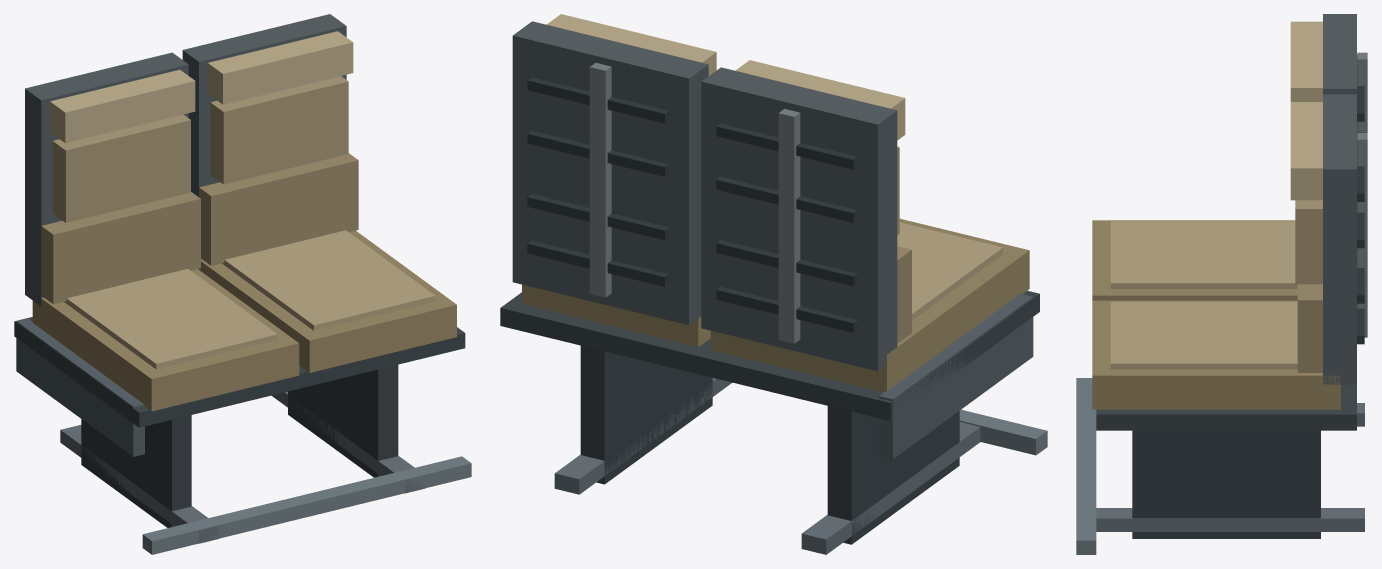
The model's file is CMU3DTanBenchLeft.glb.
3 views of the same model, side by side, from view 1: azimuth 30°, elevation 25°; view 2: azimuth 150°, elevation 25°; view 3: azimuth 270°, elevation 25° (orthographic). The views are drawn at different scales.
Visible parts, largest first — view 1: tan lower back pad (×2), pale seat inset (×2), tan middle back pad (×2), tan seat pad (×2), bench support leg (×2), back shell (×2), pale head pad (×2), joined front foot bar, bench seat rail, outer end bracket, long floor skid (×2); view 2: back shell (×2), bench support leg (×2), tan seat pad (×2), back shell horizontal rib (×8), bench seat rail, rear mounting spine (×2), outer end bracket, long floor skid (×2), pale head pad (×2), pale seat inset, joined front foot bar, tan lower back pad; view 3: pale seat inset (×2), bench support leg, tan seat pad (×2), back shell (×2), bench seat rail, pale head pad (×2), long floor skid, joined front foot bar, tan middle back pad, tan lower back pad, rear mounting spine (×2).
Part boxes in pixels (x1=…): tan lower back pad (×2): x1=41, y1=153, x2=358, y2=304; pale seat inset (×2): x1=64, y1=230, x2=435, y2=369; tan middle back pad (×2): x1=52, y1=76, x2=348, y2=222; tan seat pad (×2): x1=32, y1=230, x2=456, y2=411; bench support leg (×2): x1=81, y1=364, x2=398, y2=527; back shell (×2): x1=25, y1=14, x2=346, y2=306; pale head pad (×2): x1=50, y1=31, x2=353, y2=143; joined front foot bar: x1=142, y1=456, x2=471, y2=554; bench seat rail: x1=14, y1=317, x2=465, y2=427; outer end bracket: x1=16, y1=318, x2=144, y2=456; long floor skid (×2): x1=60, y1=391, x2=425, y2=543; back shell (×2): x1=512, y1=21, x2=897, y2=371; bench support leg (×2): x1=580, y1=345, x2=959, y2=544; tan seat pad (×2): x1=522, y1=218, x2=1029, y2=392; back shell horizontal rib (×8): x1=527, y1=77, x2=857, y2=332; bench seat rail: x1=500, y1=290, x2=1039, y2=420; rear mounting spine (×2): x1=589, y1=63, x2=800, y2=343; outer end bracket: x1=879, y1=293, x2=1033, y2=459; long floor skid (×2): x1=554, y1=378, x2=980, y2=554; pale head pad (×2): x1=547, y1=14, x2=905, y2=140; pale seat inset: x1=897, y1=222, x2=1002, y2=320; joined front foot bar: x1=959, y1=409, x2=1047, y2=455; tan lower back pad: x1=897, y1=246, x2=911, y2=343; pale seat inset (×2): x1=1110, y1=221, x2=1297, y2=369; bench support leg: x1=1132, y1=430, x2=1320, y2=538; tan seat pad (×2): x1=1092, y1=220, x2=1340, y2=409; back shell (×2): x1=1323, y1=14, x2=1356, y2=384; bench seat rail: x1=1096, y1=384, x2=1356, y2=430; pale head pad (×2): x1=1290, y1=21, x2=1322, y2=200; long floor skid: x1=1096, y1=508, x2=1364, y2=531; joined front foot bar: x1=1076, y1=378, x2=1096, y2=554; tan middle back pad: x1=1295, y1=200, x2=1322, y2=284; tan lower back pad: x1=1297, y1=284, x2=1322, y2=372; rear mounting spine (×2): x1=1357, y1=52, x2=1367, y2=337.
Size of the model in its own units: 0.98 by 1.07 by 0.727.
